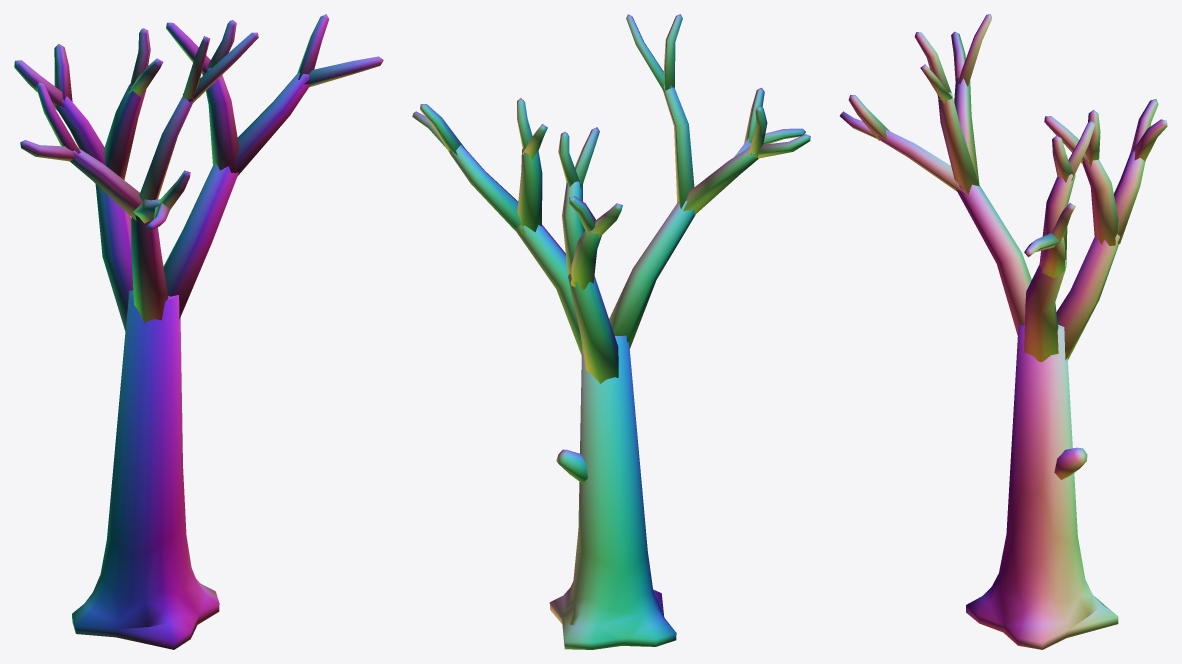
Rendered from SM_Foliage_March_DeadOak_A_LOD1.fbx.
3 views of the same model, side by side, from view 1: azimuth 30°, elevation 25°; view 2: azimuth 150°, elevation 25°; view 3: azimuth 270°, elevation 25° (orthographic). The views are drawn at different scales.
Parts seen in each view (by area): view 1: SM_Foliage_March_DeadOak_A_LOD1; view 2: SM_Foliage_March_DeadOak_A_LOD1; view 3: SM_Foliage_March_DeadOak_A_LOD1.
Boxes of the visible parts, x1,y1,x2,y2 form: SM_Foliage_March_DeadOak_A_LOD1: [14, 14, 383, 649]; SM_Foliage_March_DeadOak_A_LOD1: [412, 14, 810, 649]; SM_Foliage_March_DeadOak_A_LOD1: [840, 14, 1167, 649].
Size of the model in its own units: 2.68 by 4.02 by 2.05.
